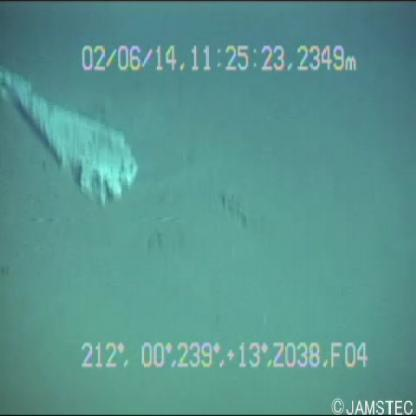Rác: (1, 54, 141, 224)
